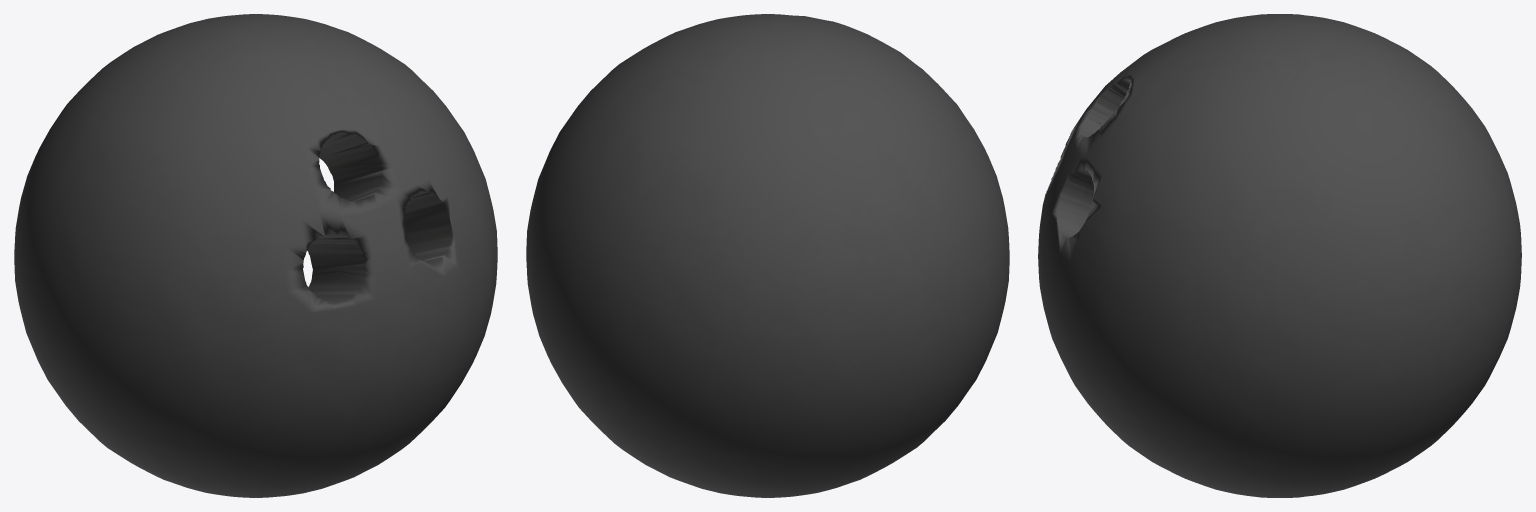
File: 01a0985d-effb-7495-95b5-b3623946a309.glb
The picture shows the model from 3 angles, left to right: view 1: azimuth 30°, elevation 25°; view 2: azimuth 150°, elevation 25°; view 3: azimuth 270°, elevation 25°; orthographic projection.
Visible parts, largest first — view 1: tripo_node_24174502-e6e1-448c-a587-ff8908daf49c; view 2: tripo_node_24174502-e6e1-448c-a587-ff8908daf49c; view 3: tripo_node_24174502-e6e1-448c-a587-ff8908daf49c.
Boxes of the visible parts, x1,y1,x2,y2 form: tripo_node_24174502-e6e1-448c-a587-ff8908daf49c: [14, 14, 497, 497]; tripo_node_24174502-e6e1-448c-a587-ff8908daf49c: [526, 14, 1009, 497]; tripo_node_24174502-e6e1-448c-a587-ff8908daf49c: [1038, 14, 1521, 497].
Bounding box in the file's own units: 0.998 × 0.998 × 0.998.
1 material, 1 textured.
